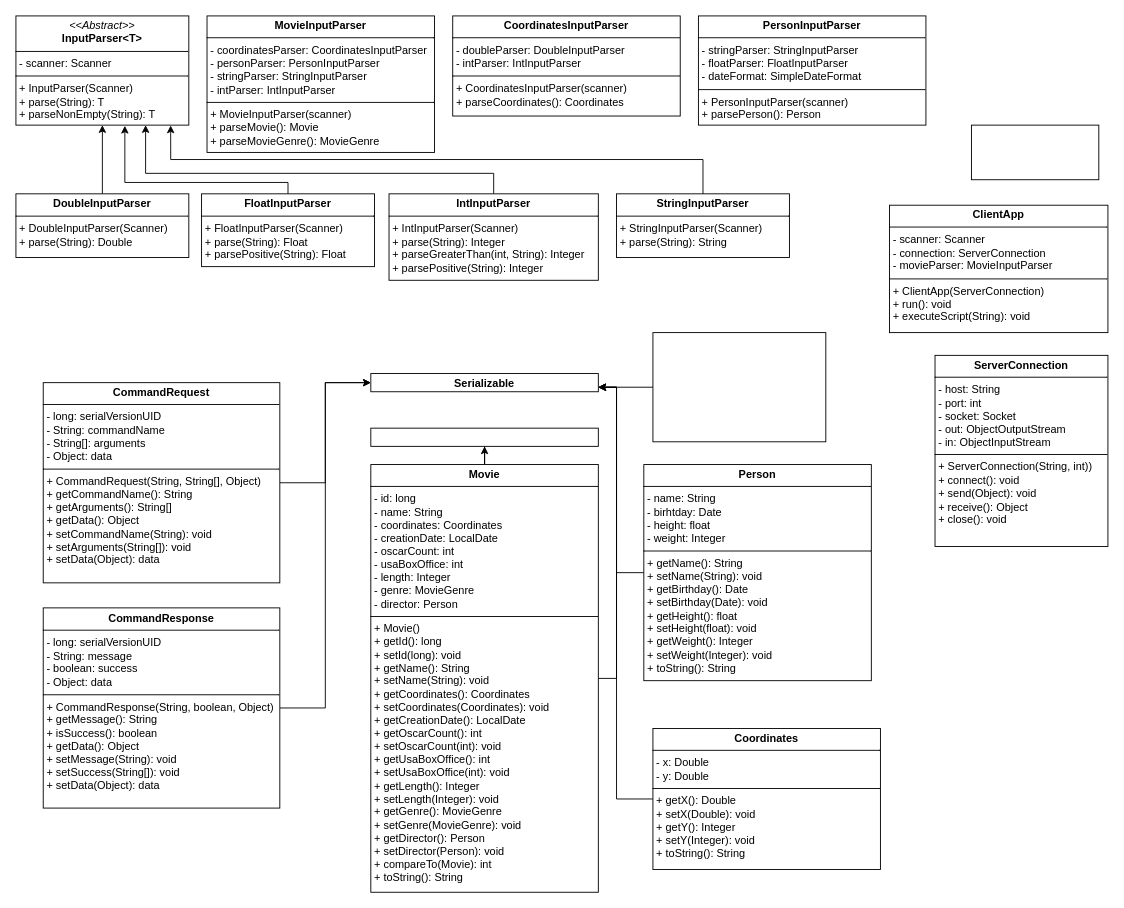
This 1124x908 diagram has some shape labels left out. Each missing label, with the centre of its shape:
<<Enum>> MovieGenre ACTION THRILLER FANTASY + printGenres(): void: point 739,387
ClientMain + main(String[]): void: point 1035,152
Comparable<T>: point 484,436
